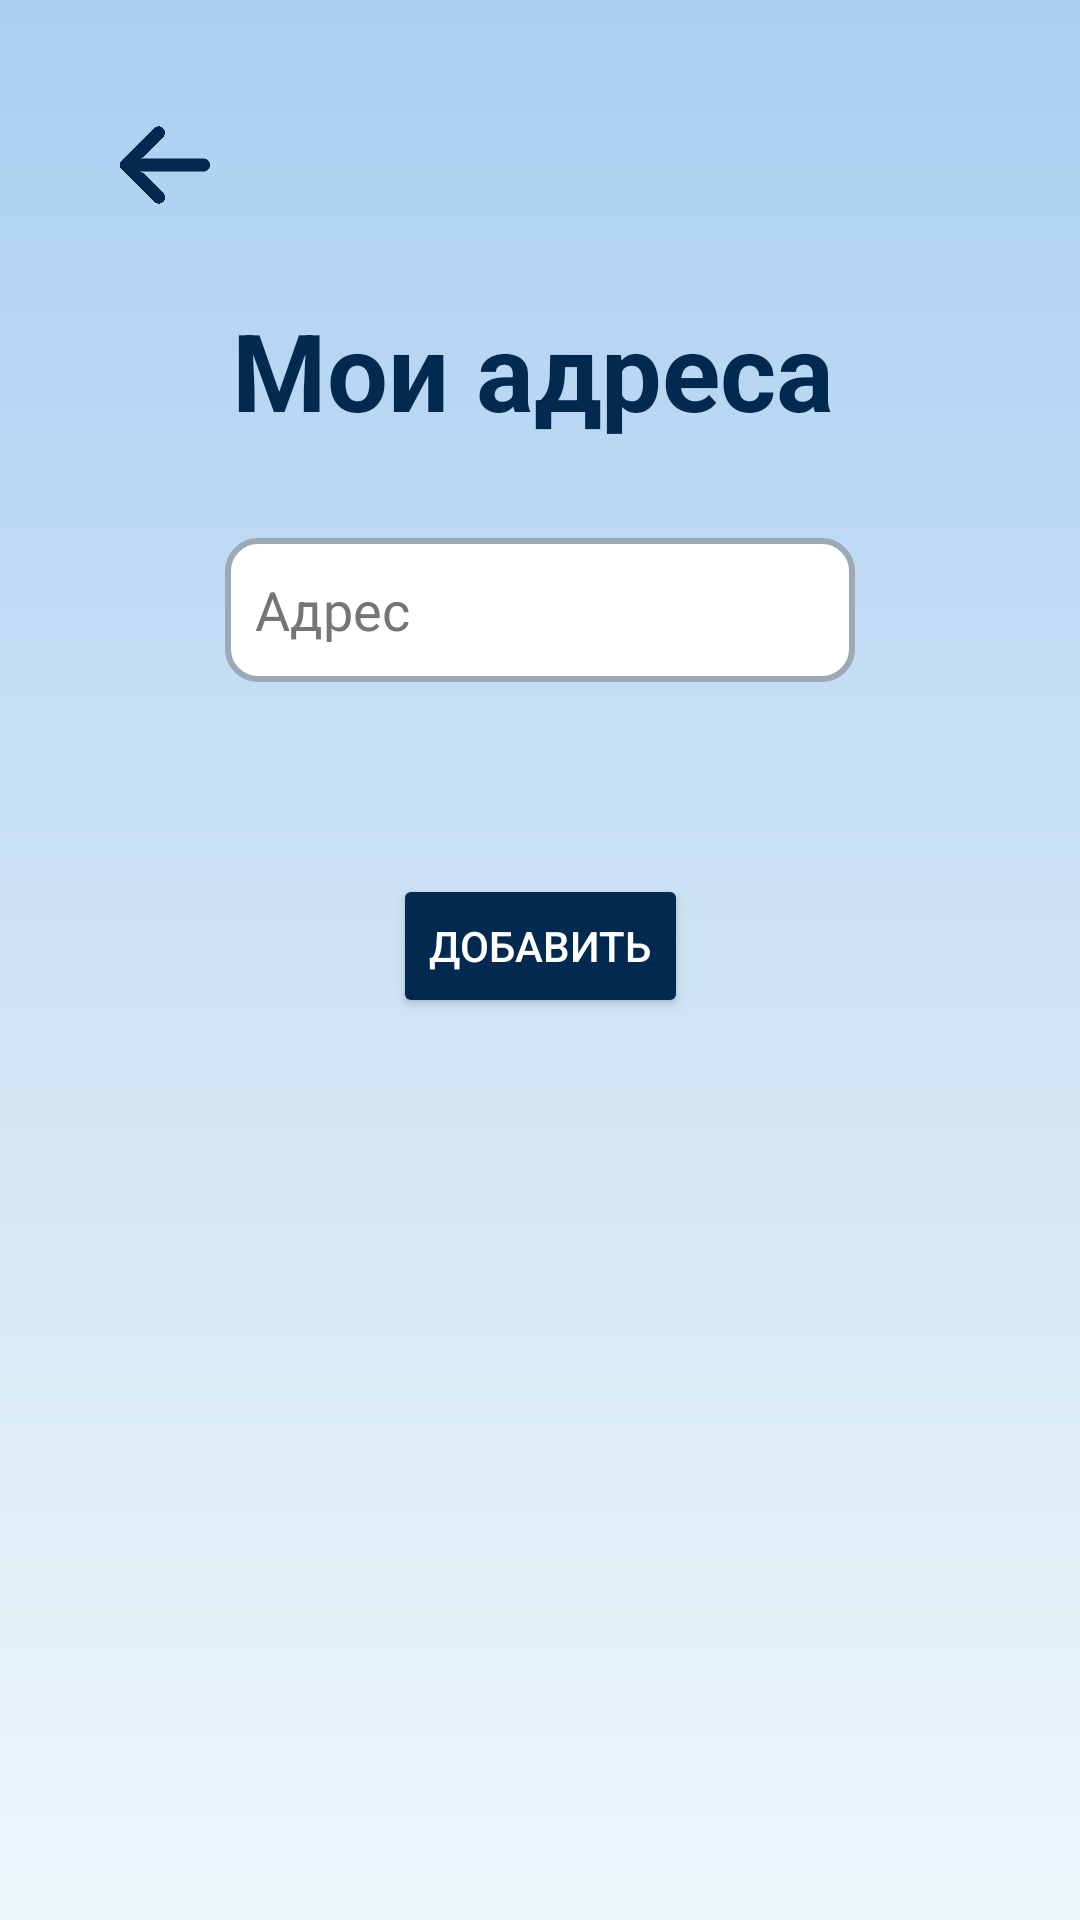

Locate icon controls on the screen. Image size 1080w x 1920h, boxes as (x1, y1, x2, y2).
arrow: (120, 126, 210, 204)
